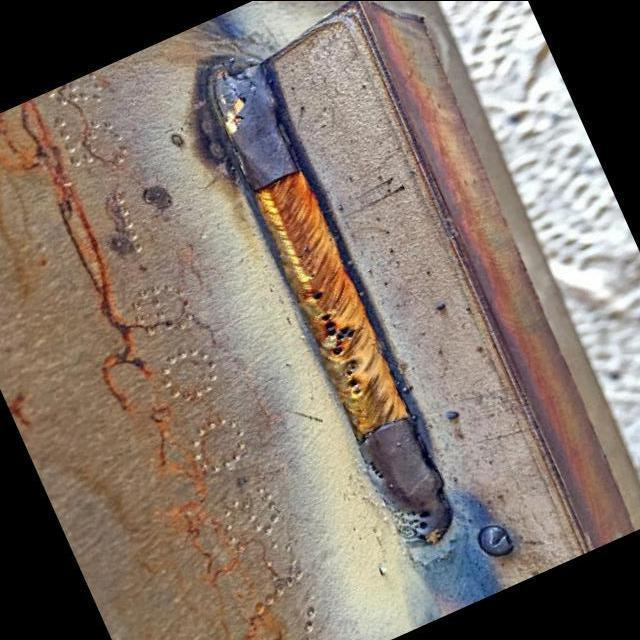defect: (318, 306, 363, 359), (340, 356, 365, 395), (395, 507, 434, 532), (362, 457, 387, 485), (309, 286, 326, 306)
